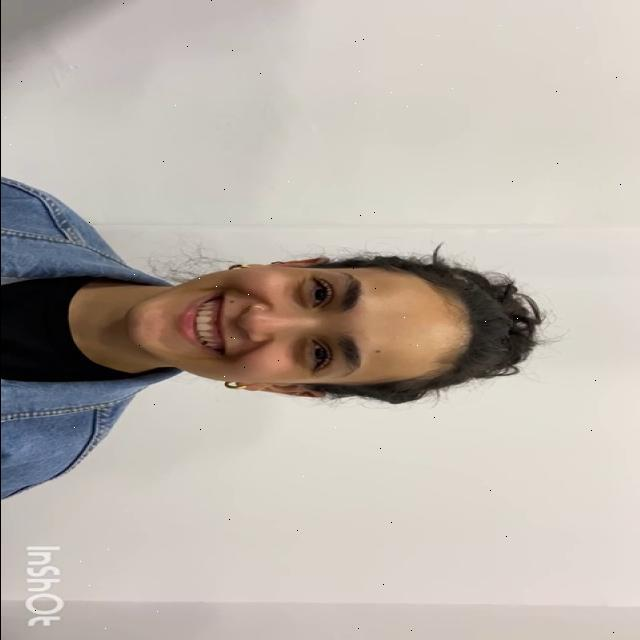happy: (120, 266, 468, 382)
